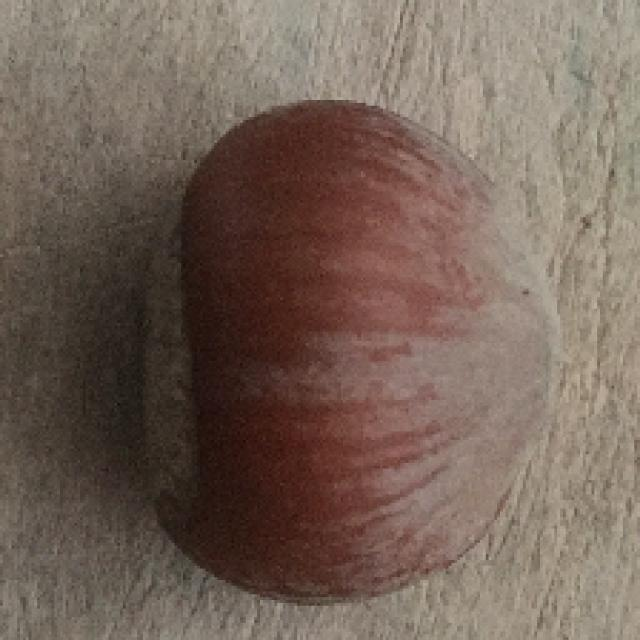QualityHazelnut: (147, 93, 566, 613)
